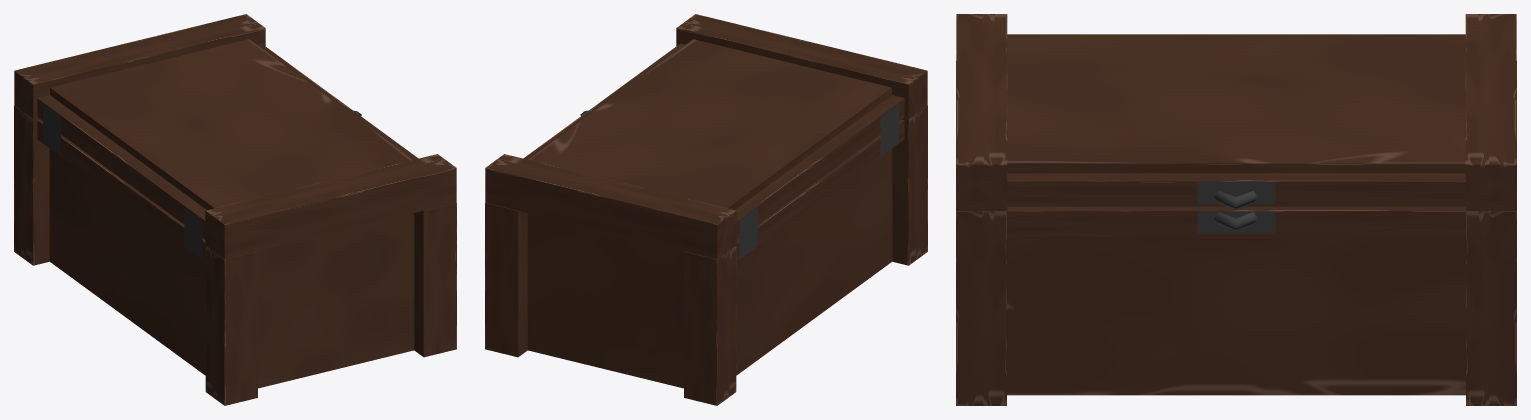
Rendered from CHEST.fbx.
3 views of the same model, side by side, from view 1: azimuth 30°, elevation 25°; view 2: azimuth 150°, elevation 25°; view 3: azimuth 270°, elevation 25° (orthographic). The views are drawn at different scales.
Parts seen in each view (by area): view 1: Chesty; view 2: Chesty; view 3: Chesty.
Boxes of the visible parts, <box> form: Chesty: <box>14,14,456,405</box>; Chesty: <box>485,14,927,405</box>; Chesty: <box>956,14,1516,405</box>.
Size of the model in its own units: 73.11 by 52.19 by 110.
Materials: 2 (1 with a texture image).
